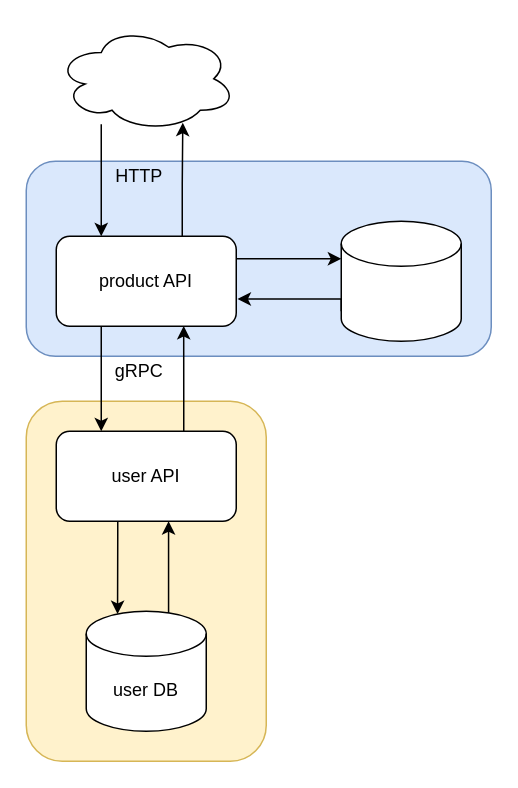
Some shapes in this 518 by 788 pixel diagram are drawn without their labels. The centre of each missing label's shape, as x and y in pixels:
Client: point (145, 78)
product DB: point (400, 280)
